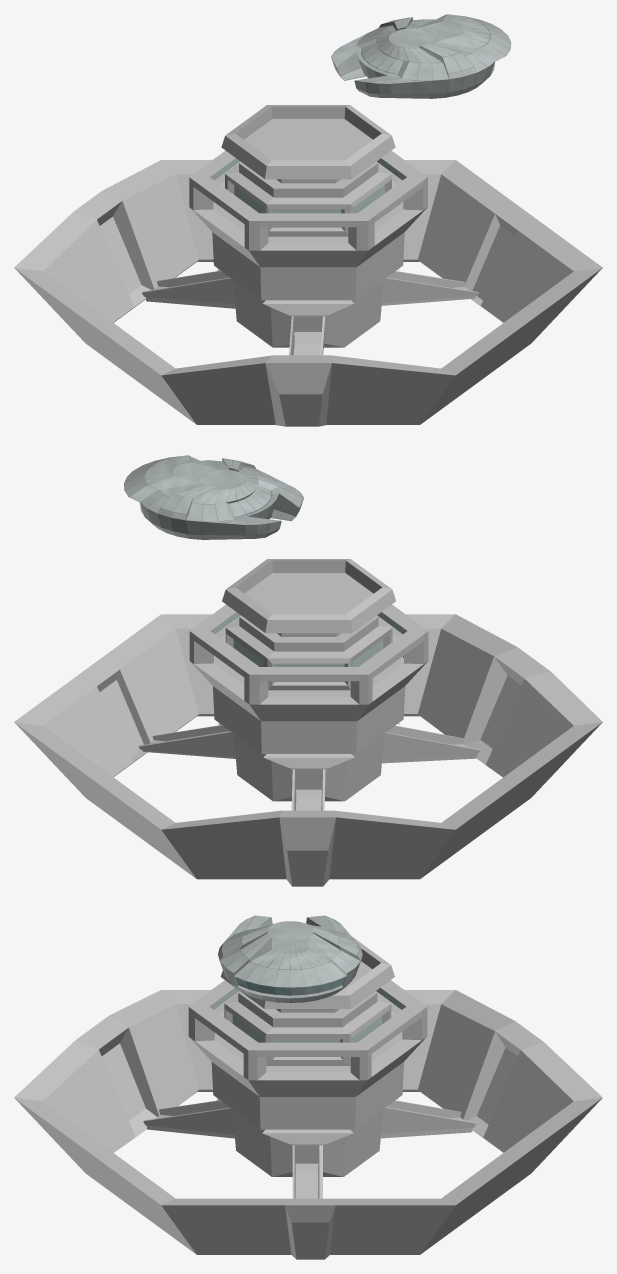
File: militaryECOState3.fbx
3 renders of one model, top to bottom at view 1: azimuth 30°, elevation 25°; view 2: azimuth 150°, elevation 25°; view 3: azimuth 270°, elevation 25°, orthographic.
Visible parts, largest first — view 1: Building, Spaceship; view 2: Building, Spaceship; view 3: Building, Spaceship.
Part boxes in pixels (left/top/right/bottom): Building: left=14, top=105, right=602, bottom=426; Spaceship: left=331, top=14, right=511, bottom=98; Building: left=14, top=559, right=602, bottom=886; Spaceship: left=124, top=455, right=303, bottom=539; Building: left=14, top=936, right=602, bottom=1259; Spaceship: left=218, top=915, right=362, bottom=1002.
Size of the model in its own units: 14.49 by 9.12 by 16.73.
